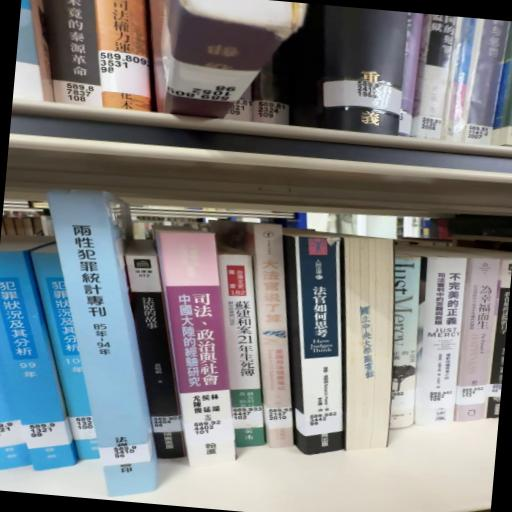backward: (332, 238, 404, 459)
book: (25, 187, 184, 498), (141, 225, 258, 471), (104, 229, 203, 464), (268, 237, 365, 463), (213, 218, 305, 455), (191, 225, 273, 462), (243, 225, 318, 454), (410, 257, 470, 434)
